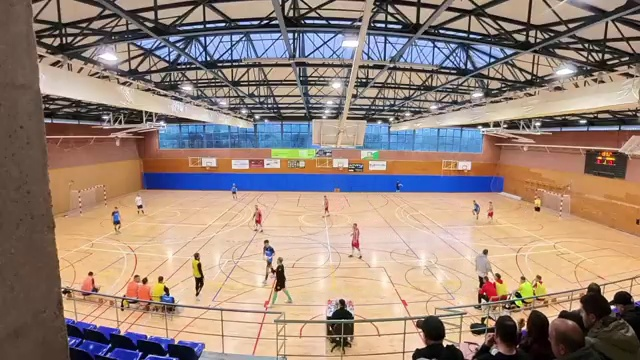players blue shirt: (263, 240, 274, 281), (112, 207, 119, 231), (472, 200, 480, 218), (231, 184, 237, 198)
players red shirt: (349, 223, 361, 257), (254, 205, 262, 232), (323, 195, 328, 215), (487, 203, 492, 218)
